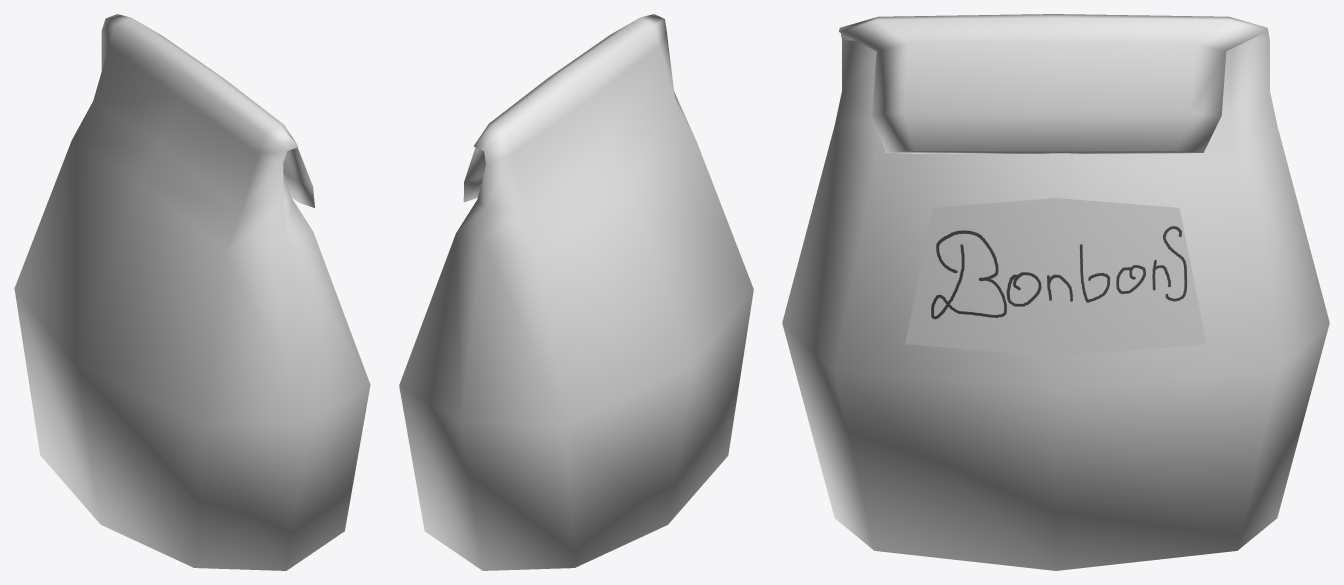
Rendered from Candies_pack.glb.
The picture shows the model from 3 angles, left to right: view 1: azimuth 30°, elevation 25°; view 2: azimuth 150°, elevation 25°; view 3: azimuth 270°, elevation 25°; orthographic projection. The views are drawn at different scales.
Visible parts, largest first — view 1: Cube; view 2: Cube; view 3: Cube, Etiquette.
Part boxes in pixels (bbox=[...]): Cube: bbox=[14, 14, 370, 570]; Cube: bbox=[399, 14, 753, 570]; Cube: bbox=[782, 14, 1329, 570]; Etiquette: bbox=[905, 198, 1206, 356].
Bounding box in the file's own units: 0.8685 × 1.57 × 1.51.
Materials: 9 (1 with a texture image).
